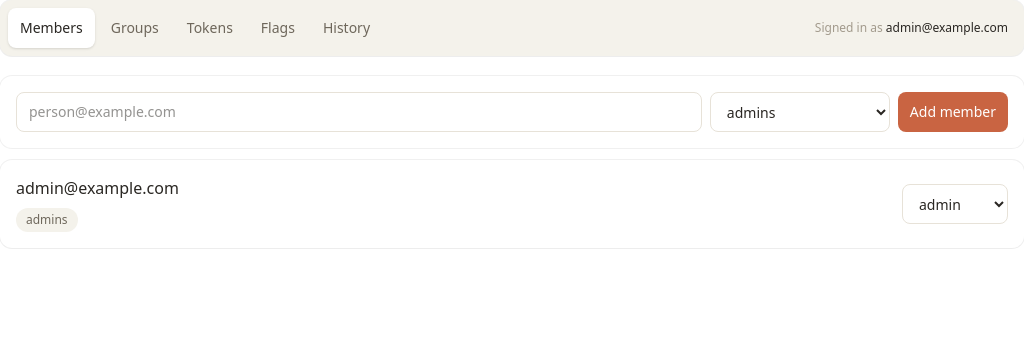
AccessAdmin groups tab › refreshes the page after a successful change and drops the manual-refresh copy
This screenshot has width=1024, height=358.
Step 1. Click the tab "groups" → (135, 28), box [99,8,171,48]
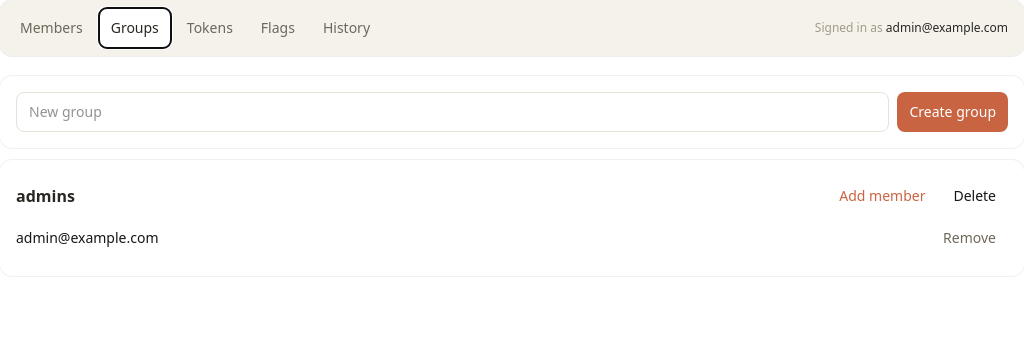
Step 2. Type "Finance" into the field with placeholder "New group" → (453, 112), box [16,92,890,132]
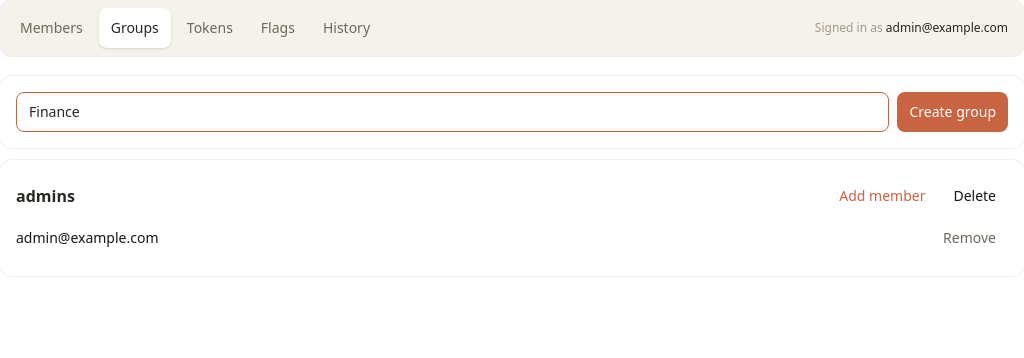
Step 3. Click the button "Create group" → (953, 112), box [898,92,1008,132]
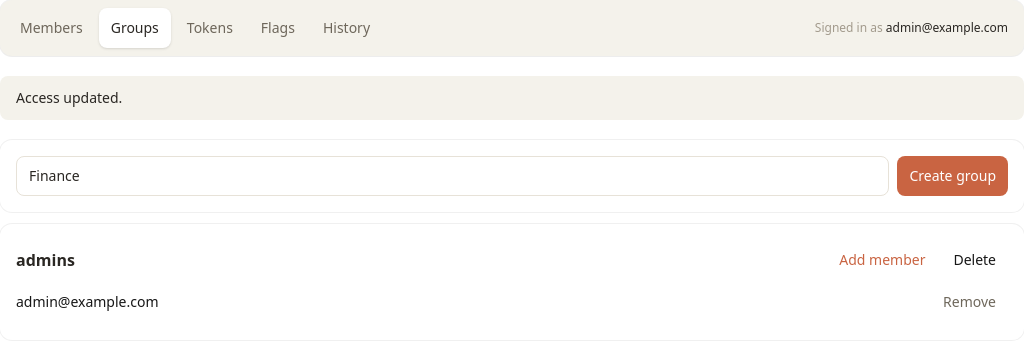
Now the message reads "Access updated.", box [16,88,122,107]
